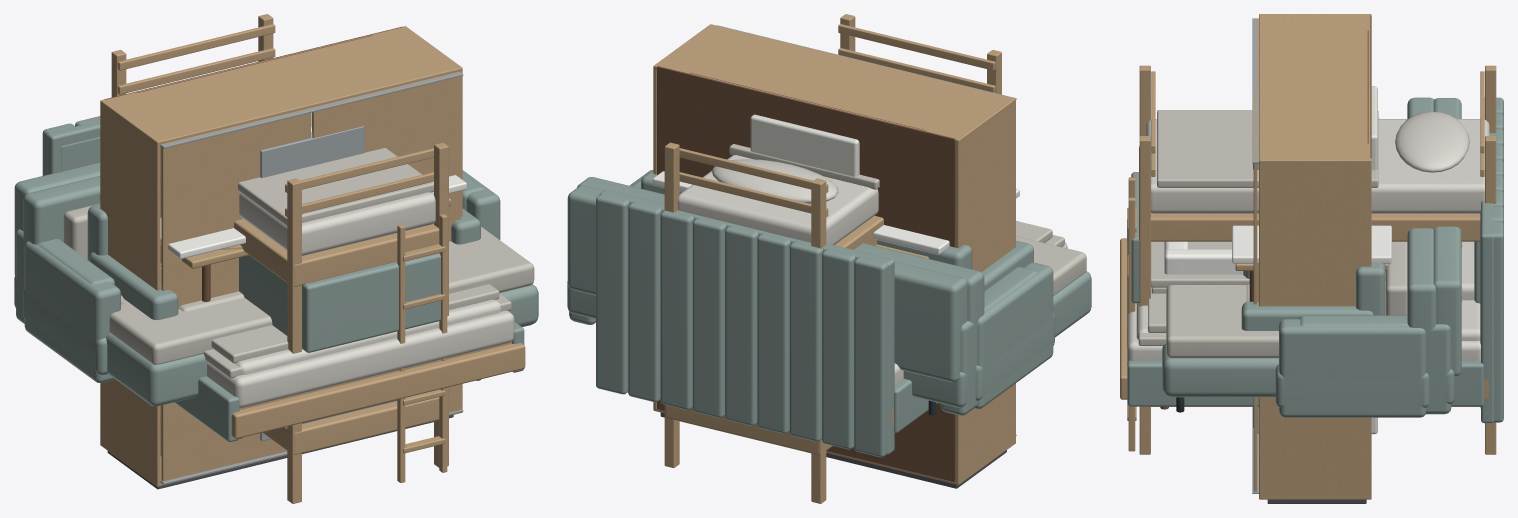
Rendered from furniture.glb.
3 views of the same model, side by side, from view 1: azimuth 30°, elevation 25°; view 2: azimuth 150°, elevation 25°; view 3: azimuth 270°, elevation 25° (orthographic).
Visible parts, largest first — view 1: Sliding door, Carcass horizontal.003, Side panel.002, Carcass horizontal.001, Mattress.004, Sliding door.001, Daybed end.001, Bed frame.004, Soft arm.002, Chaise cushion, Duvet.003, Mattress.003 (+36 smaller); view 2: Back panel.001, Carcass horizontal.003, Side panel.002, Carcass horizontal.001, Back frame.004, Channel headboard, Channel headboard.005, Channel headboard.004, Channel headboard.007, Channel headboard.003, Channel headboard.006, Channel headboard.002 (+29 smaller); view 3: Side panel.003, Carcass horizontal.003, Soft arm.003, Carcass horizontal.001, Mattress.003, Duvet.003, Chaise cushion.001, Bed frame.003, Extended chaise, Padded bed rail.001, Back frame.004, Pillow.004 (+29 smaller).
Boxes of the visible parts, bbox=[...] form: Sliding door: bbox=[161, 108, 310, 481]; Carcass horizontal.003: bbox=[103, 26, 459, 144]; Side panel.002: bbox=[100, 100, 160, 484]; Carcass horizontal.001: bbox=[141, 35, 424, 131]; Mattress.004: bbox=[207, 310, 514, 407]; Sliding door.001: bbox=[312, 72, 461, 412]; Daybed end.001: bbox=[302, 253, 440, 352]; Bed frame.004: bbox=[231, 343, 525, 438]; Soft arm.002: bbox=[24, 241, 120, 383]; Chaise cushion: bbox=[109, 298, 272, 364]; Duvet.003: bbox=[238, 148, 433, 225]; Mattress.003: bbox=[239, 192, 435, 255]; Back panel.001: bbox=[657, 66, 955, 481]; Carcass horizontal.003: bbox=[653, 24, 1015, 143]; Side panel.002: bbox=[955, 98, 1015, 482]; Carcass horizontal.001: bbox=[689, 44, 978, 131]; Back frame.004: bbox=[567, 185, 967, 382]; Channel headboard: bbox=[854, 256, 888, 457]; Channel headboard.005: bbox=[692, 216, 726, 417]; Channel headboard.004: bbox=[725, 224, 758, 425]; Channel headboard.007: bbox=[628, 200, 661, 402]; Channel headboard.003: bbox=[757, 232, 790, 433]; Channel headboard.006: bbox=[660, 210, 693, 410]; Channel headboard.002: bbox=[789, 240, 823, 441]; Side panel.003: bbox=[1259, 159, 1371, 496]; Carcass horizontal.003: bbox=[1259, 15, 1371, 163]; Soft arm.003: bbox=[1279, 319, 1425, 417]; Carcass horizontal.001: bbox=[1266, 29, 1367, 145]; Mattress.003: bbox=[1146, 119, 1489, 213]; Duvet.003: bbox=[1157, 110, 1378, 187]; Chaise cushion.001: bbox=[1166, 285, 1278, 358]; Bed frame.003: bbox=[1139, 146, 1480, 241]; Extended chaise: bbox=[1162, 343, 1278, 397]; Padded bed rail.001: bbox=[1127, 360, 1483, 406]; Back frame.004: bbox=[1433, 98, 1461, 376]; Pillow.004: bbox=[1395, 111, 1469, 172].
Size of the model in its own units: 2.65 by 2.2 by 2.21.
Materials: 13 (5 with a texture image).
